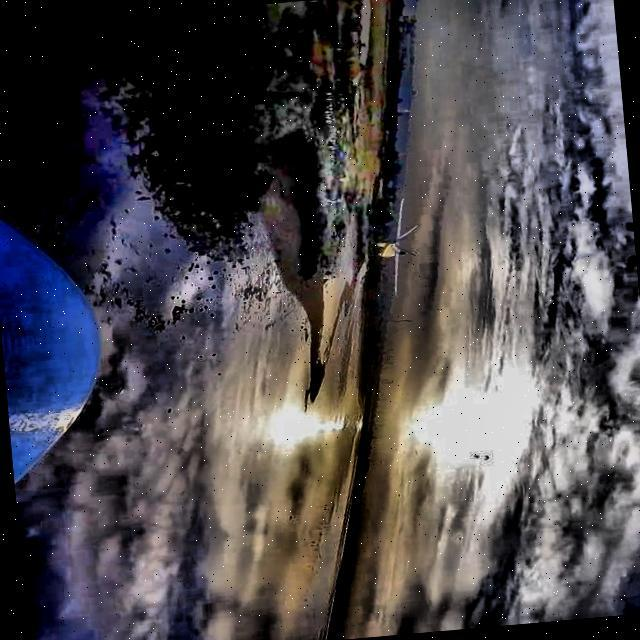iha: (359, 227, 422, 263)
